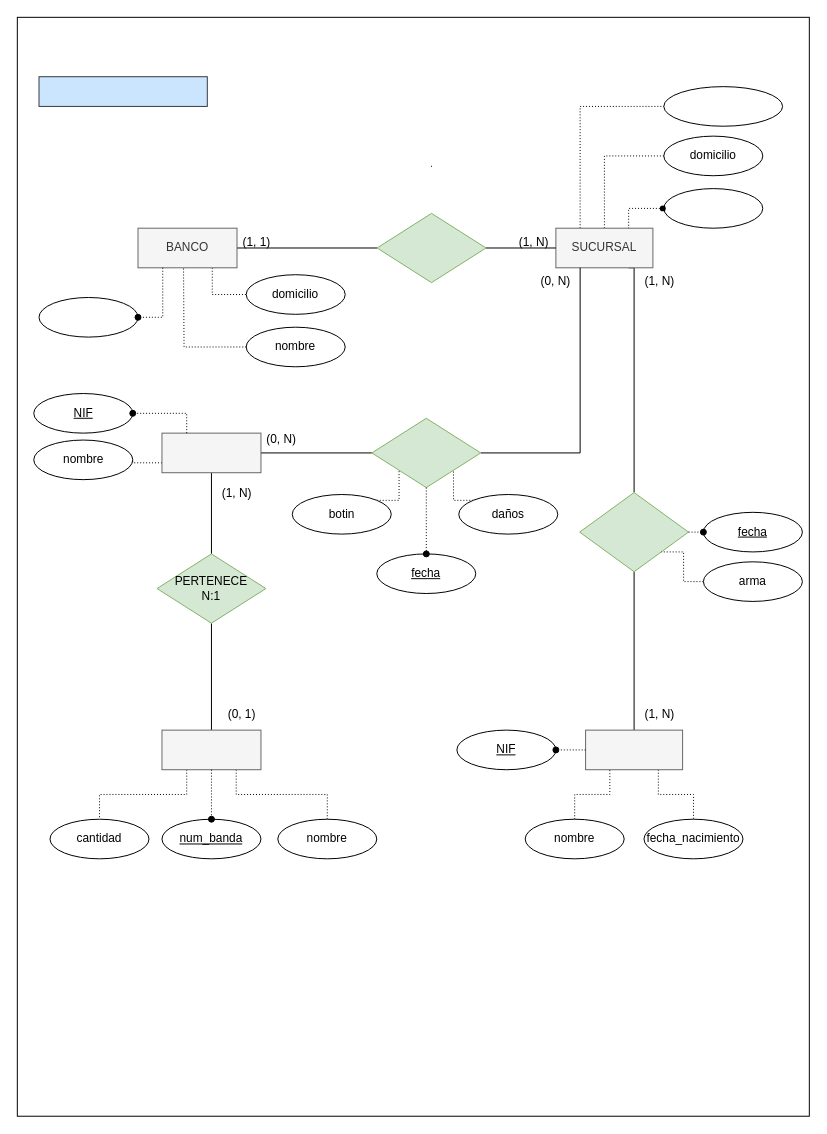
This 827x1134 diagram has some shape labels left out. Each missing label, with the centre of its shape:
"ATRACA N:N" belongs at pixel 426 452.
"BANDA" belongs at pixel 211 749.
"cantidad_empleado" belongs at pixel 723 106.
"cod_banco" belongs at pixel 88 317.
"cod_sucursal" belongs at pixel 713 208.
"CONTRATA N:N" belongs at pixel 634 532.
"DELINCUENTE" belongs at pixel 211 452.
"EJER. 16 - UNIVERSIDAD" belongs at pixel 122 91.
"HAY 1:N" belongs at pixel 431 247.
"VIGILANTE" belongs at pixel 634 749.
